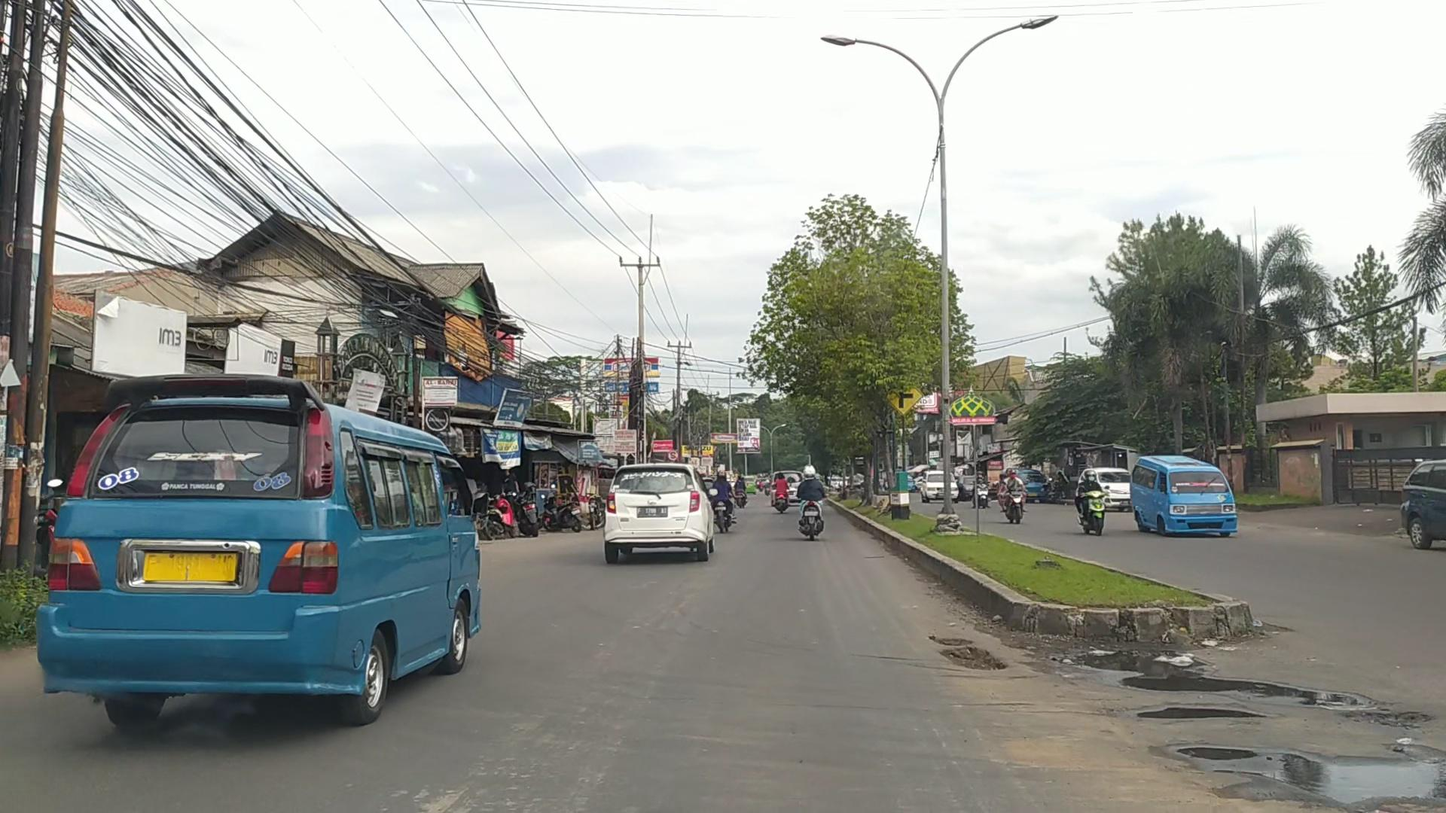pothole: (940, 646, 1009, 671), (928, 635, 976, 647)
